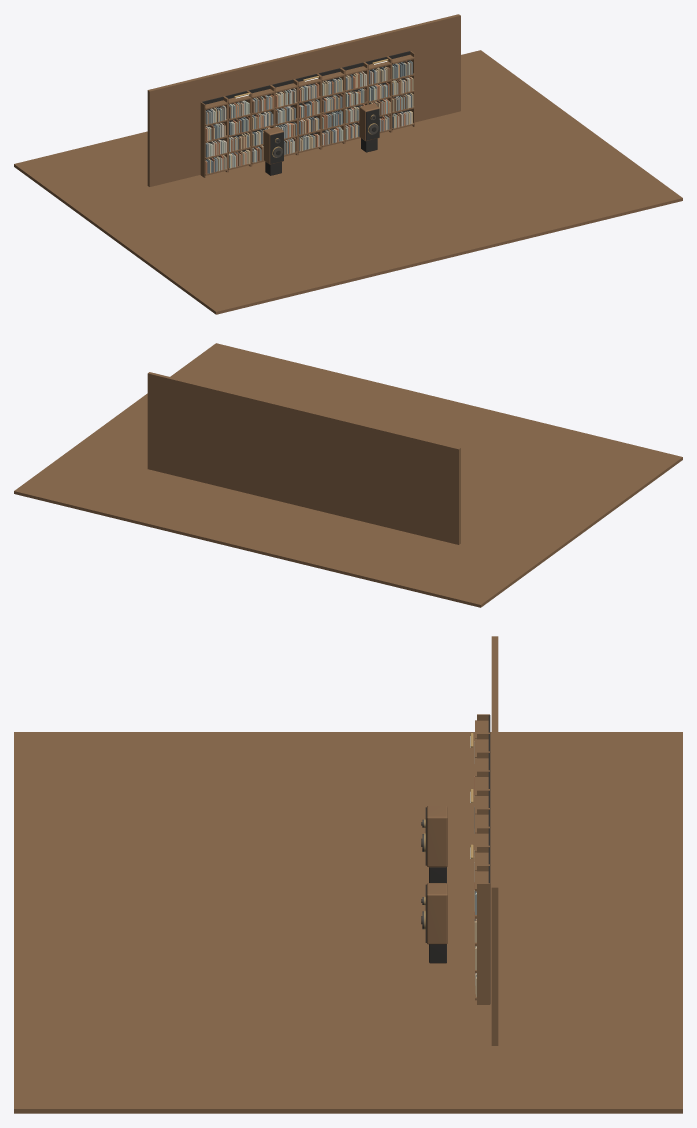
File: VenueListening.fbx
3 views of the same model, one above another, from view 1: azimuth 30°, elevation 25°; view 2: azimuth 150°, elevation 25°; view 3: azimuth 270°, elevation 25° (orthographic). The views are drawn at different scales.
Parts seen in each view (by area): view 1: VenueListening; view 2: VenueListening; view 3: VenueListening.
Part boxes in pixels (x1,y1,x2,y2): VenueListening: (14,14,682,314); VenueListening: (14,343,682,607); VenueListening: (14,636,682,1113).
Bounding box in the file's own units: 24 × 18 × 4.84.
